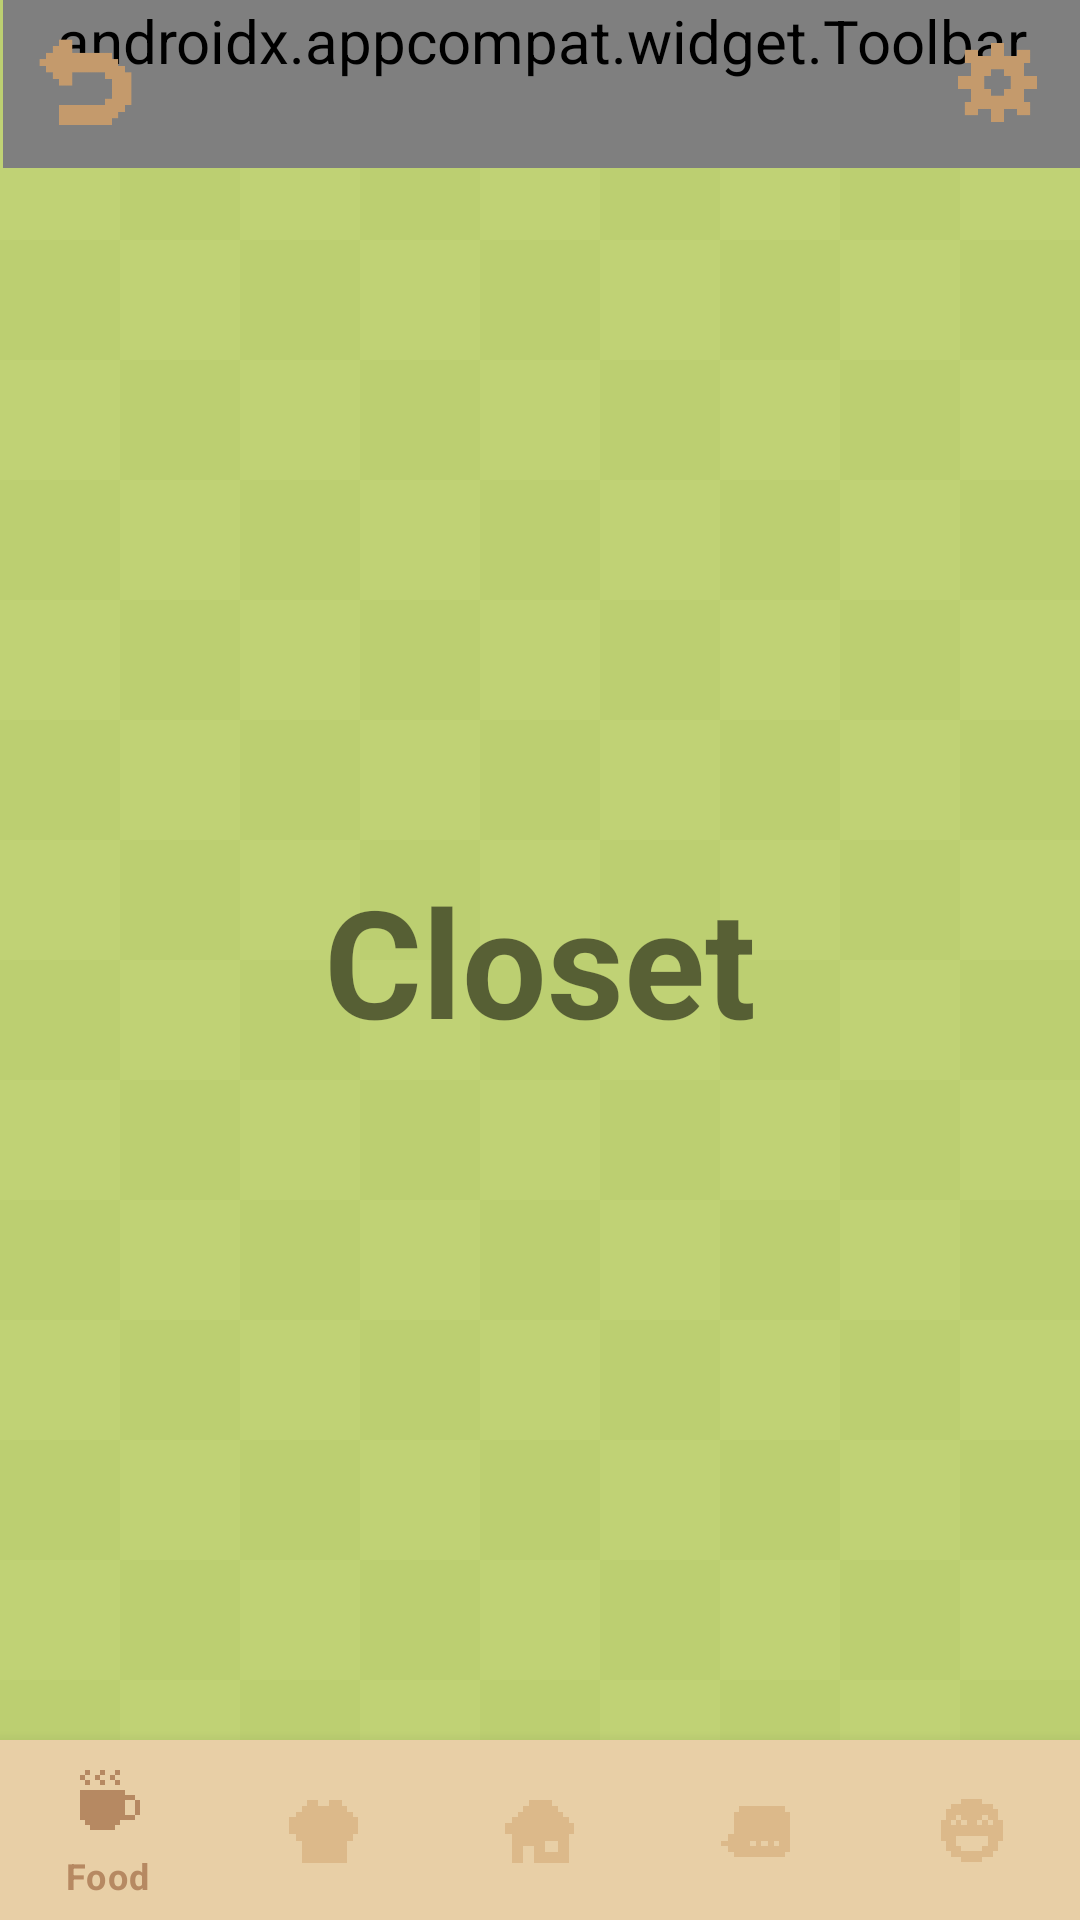

Icon bounding boxes for this 1080w x 1920h phone screenshot, format (x1, y1, x2, y2):
back: (39, 31, 132, 125)
setting: (945, 30, 1037, 122)
